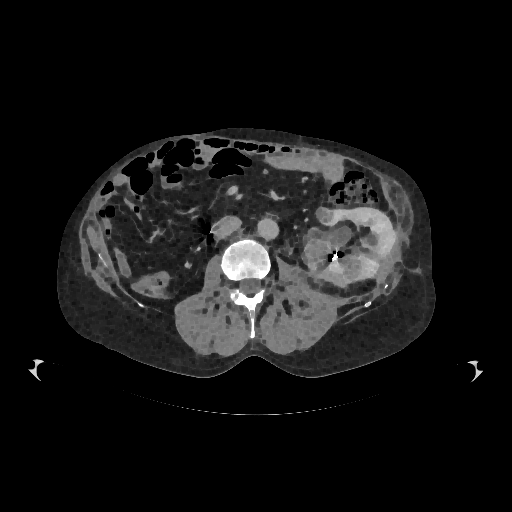Lesion: (312, 208, 336, 222)
